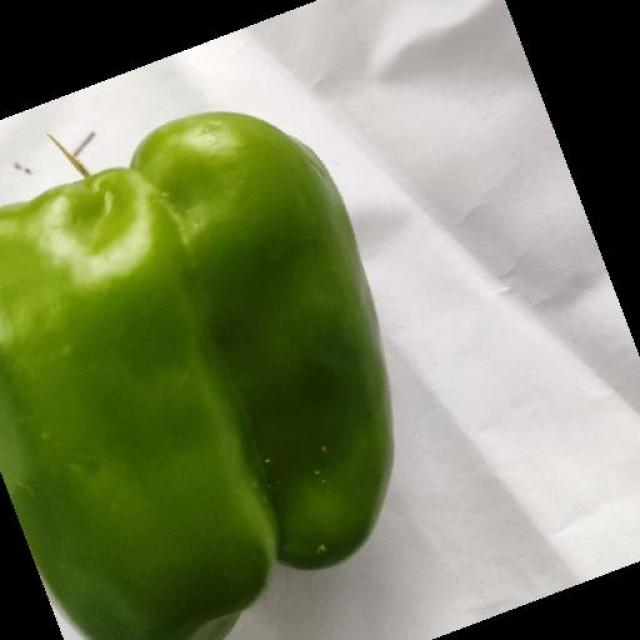Fresh_Capsicum: (0, 185, 416, 626)
